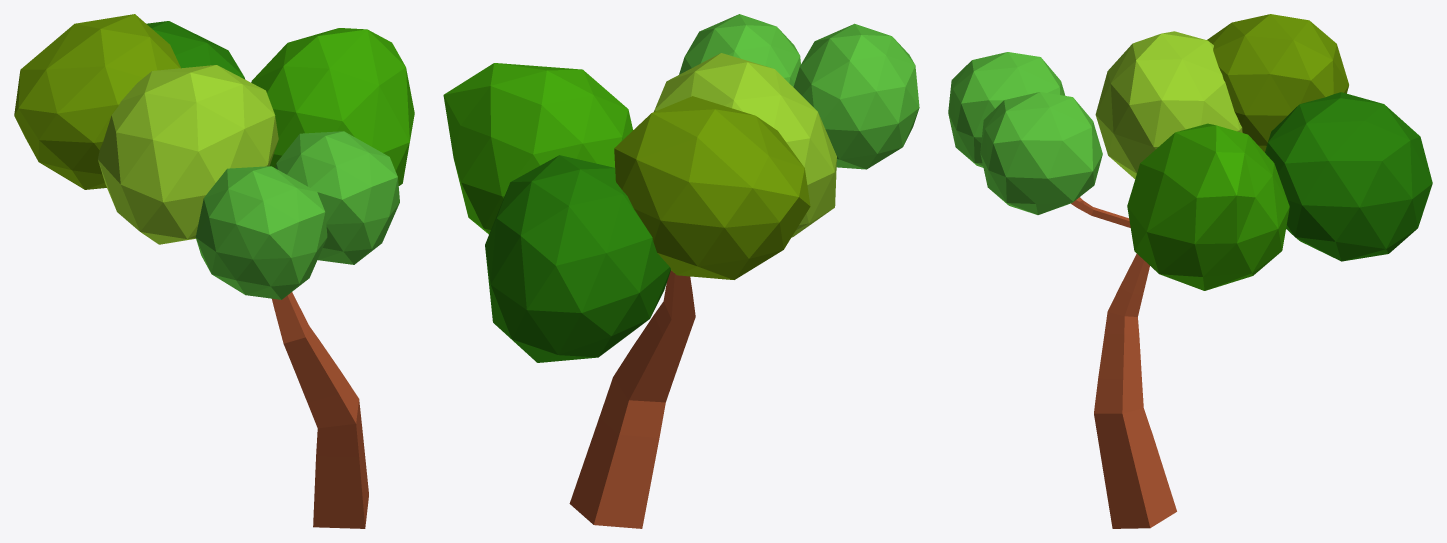
File: tree2.fbx
3 renders of one model, left to right at view 1: azimuth 30°, elevation 25°; view 2: azimuth 150°, elevation 25°; view 3: azimuth 270°, elevation 25°, orthographic. The views are drawn at different scales.
Parts seen in each view (by area): view 1: Cube; view 2: Cube; view 3: Cube.
Part boxes in pixels (x1,y1,x2,y2): Cube: (14, 14, 414, 528); Cube: (443, 14, 919, 528); Cube: (948, 14, 1432, 528).
Size of the model in its own units: 390 by 506 by 509.
